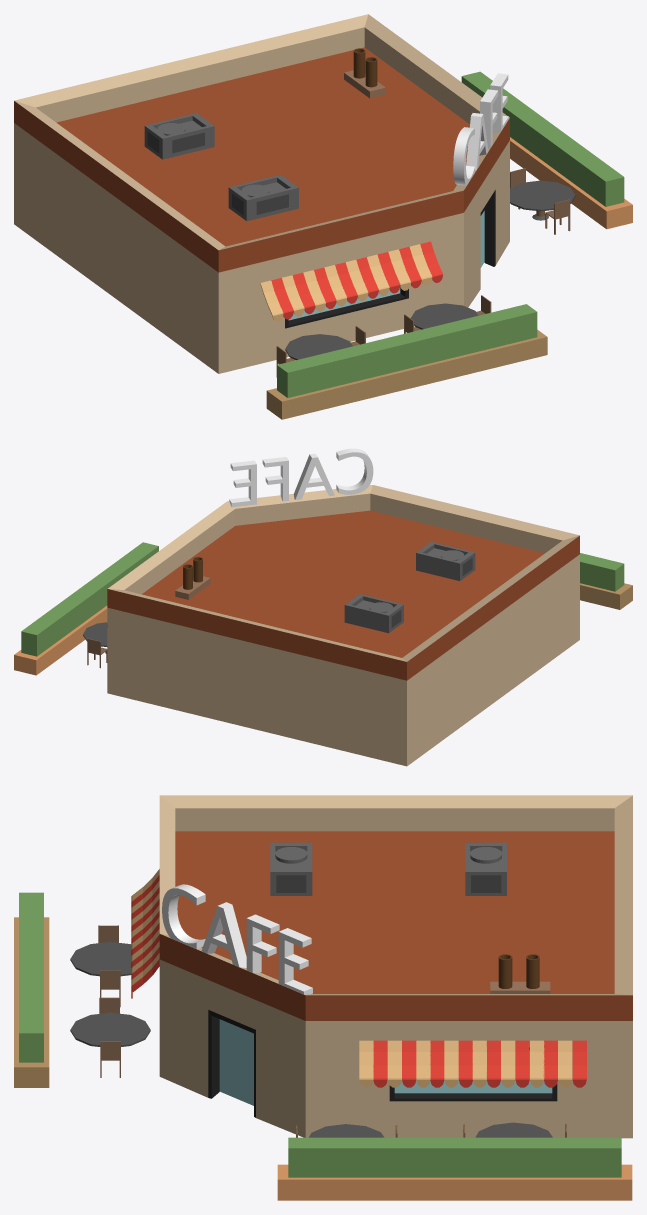
Rendered from Coffee Shop.fbx.
3 views of the same model, one above another, from view 1: azimuth 30°, elevation 25°; view 2: azimuth 150°, elevation 25°; view 3: azimuth 270°, elevation 25° (orthographic). The views are drawn at different scales.
Parts seen in each view (by area): view 1: Cube, Cube.006, Window Cover.008, Cube.004, Cube.007, typeMesh1, Cube.005, Cube.002, Cube.001, Table.002, Table.001, Table; view 2: Cube, Cube.007, typeMesh1, Cube.001, Cube.002, Cube.005, Cube.006, Cube.004; view 3: Cube, Cube.007, Window Cover.001, Cube.005, typeMesh1, Cube.006, Window Cover.008, Cube.004, Cube.002, Cube.001, Table, Table.001 (+3 smaller).
Part boxes in pixels (x1,y1,x2,y2): Cube: (14,14,509,373); Cube.006: (277,304,537,397); Window Cover.008: (260,241,442,321); Cube.004: (266,329,547,419); Cube.007: (461,71,624,206); typeMesh1: (453,73,508,185); Cube.005: (510,137,632,229); Cube.002: (228,174,298,221); Cube.001: (144,113,214,159); Table.002: (510,180,575,220); Table.001: (285,334,352,359); Table: (410,303,478,329); Cube: (107,485,579,766); Cube.007: (21,542,158,656); typeMesh1: (229,448,373,507); Cube.001: (344,594,403,633); Cube.002: (416,541,475,580); Cube.005: (14,605,107,675); Cube.006: (580,553,624,591); Cube.004: (580,583,632,609); Cube: (159,795,632,1138); Cube.007: (288,1137,621,1177); Window Cover.001: (359,1040,586,1087); Cube.005: (277,1164,632,1200); typeMesh1: (162,884,312,994); Cube.006: (19,892,43,1062); Window Cover.008: (131,869,159,998); Cube.004: (14,917,49,1087); Cube.002: (270,842,312,895); Cube.001: (465,842,506,895); Table: (70,1012,150,1046); Table.001: (70,942,131,976).
Size of the model in its own units: 849 by 296 by 846.
